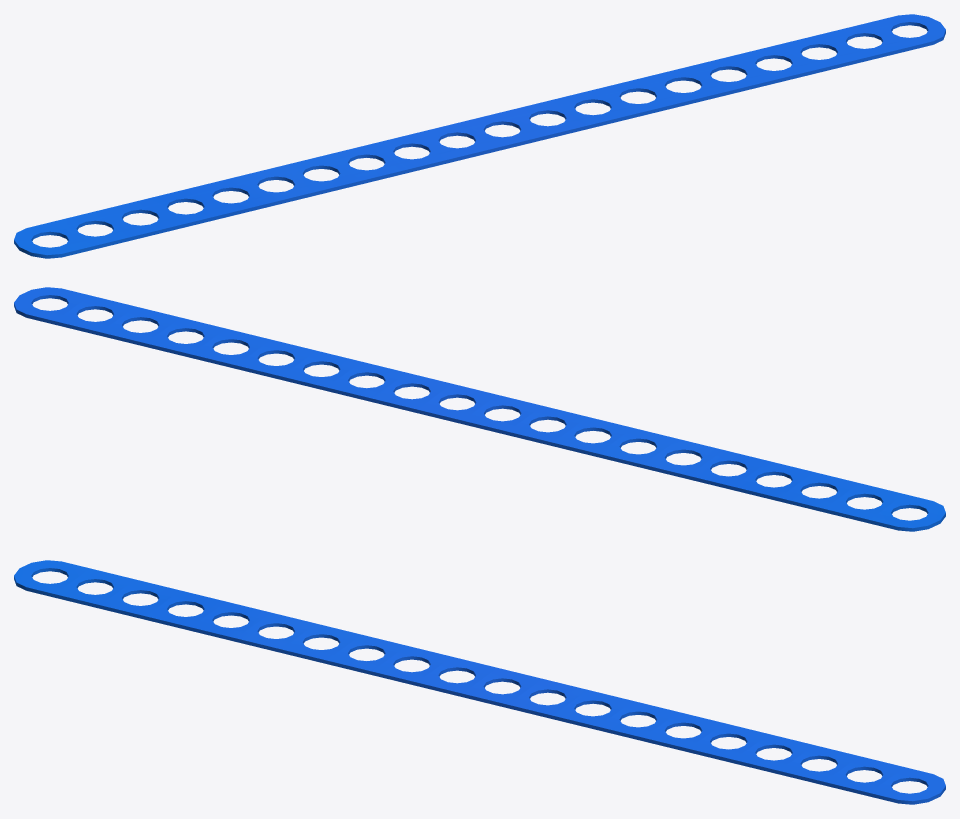
Rendered from TwentyLongBlue.fbx.
3 renders of one model, top to bottom at view 1: azimuth 30°, elevation 25°; view 2: azimuth 150°, elevation 25°; view 3: azimuth 330°, elevation 25°, orthographic.
Visible parts, largest first — view 1: Blue20; view 2: Blue20; view 3: Blue20.
Part boxes in pixels (left/top/right/bottom): Blue20: left=14, top=14, right=945, bottom=258; Blue20: left=14, top=287, right=945, bottom=531; Blue20: left=14, top=560, right=945, bottom=804.
Size of the model in its own units: 52.03 by 0.1942 by 3.45.
